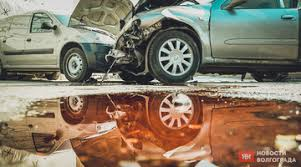car: (107, 6, 297, 70), (1, 9, 126, 75)
